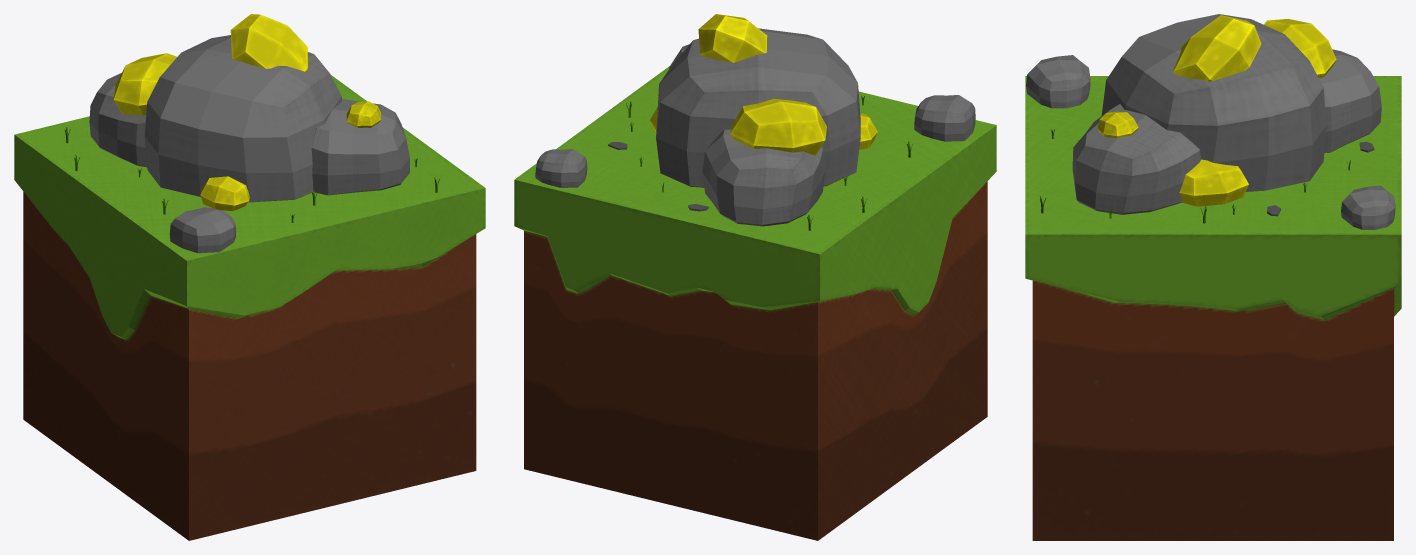
File: Concepts_14.fbx
The picture shows the model from 3 angles, left to right: view 1: azimuth 30°, elevation 25°; view 2: azimuth 150°, elevation 25°; view 3: azimuth 270°, elevation 25°; orthographic projection. The views are drawn at different scales.
Visible parts, largest first — view 1: Cube.159, Cube.010, Cube.160; view 2: Cube.159, Cube.010, Cube.160, Cube.161; view 3: Cube.159, Cube.010, Cube.160, Cube.161.
Part boxes in pixels (<box>): Cube.159: <box>14,75,485,540</box>; Cube.010: <box>89,35,409,253</box>; Cube.160: <box>113,14,380,210</box>; Cube.159: <box>514,66,996,540</box>; Cube.010: <box>535,28,975,226</box>; Cube.160: <box>650,14,877,155</box>; Cube.161: <box>608,95,913,230</box>; Cube.159: <box>1025,76,1401,540</box>; Cube.010: <box>1026,14,1395,229</box>; Cube.160: <box>1097,15,1336,206</box>; Cube.161: <box>1040,129,1374,223</box>.
Bounding box in the file's own units: 301 × 404 × 301.
